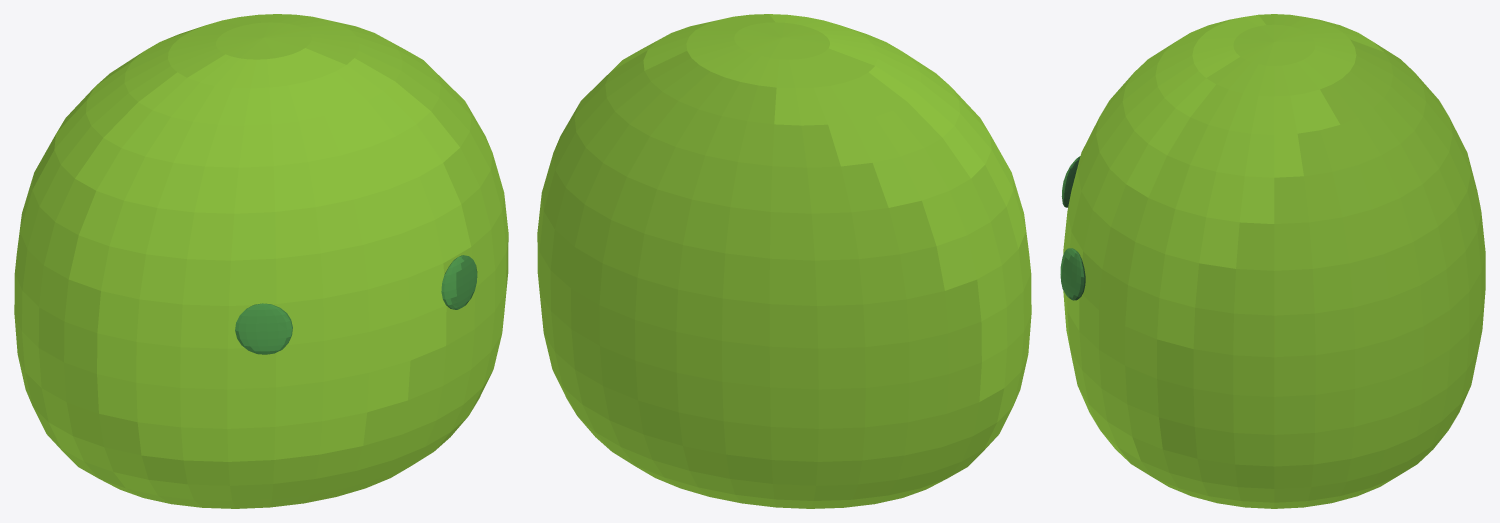
The model's file is forms.glb.
The picture shows the model from 3 angles, left to right: view 1: azimuth 30°, elevation 25°; view 2: azimuth 150°, elevation 25°; view 3: azimuth 270°, elevation 25°; orthographic projection. The views are drawn at different scales.
Parts seen in each view (by area): view 1: GaussianCakeForms; view 2: GaussianCakeForms; view 3: GaussianCakeForms.
Boxes of the visible parts, x1=… form: GaussianCakeForms: x1=14, y1=14, x2=508, y2=508; GaussianCakeForms: x1=537, y1=14, x2=1031, y2=508; GaussianCakeForms: x1=1060, y1=14, x2=1485, y2=508.
Size of the model in its own units: 2.06 by 1.85 by 1.74.
